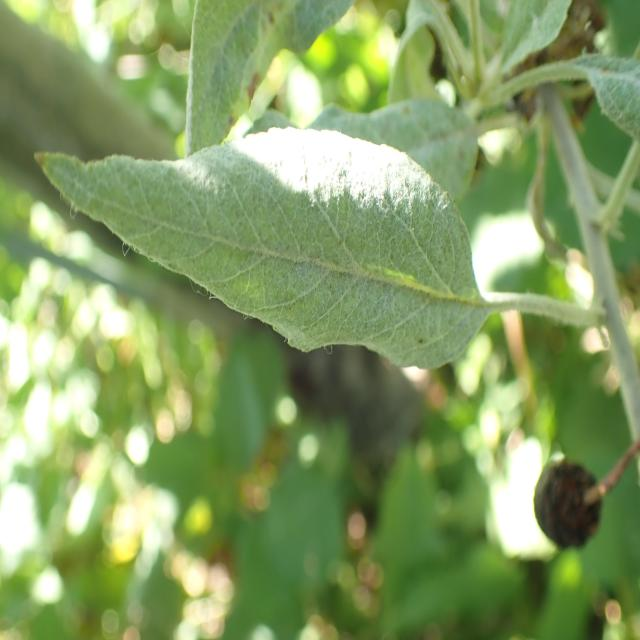Powdery_mildew: (34, 98, 501, 370), (294, 59, 492, 243), (175, 0, 365, 154), (563, 30, 640, 146)
